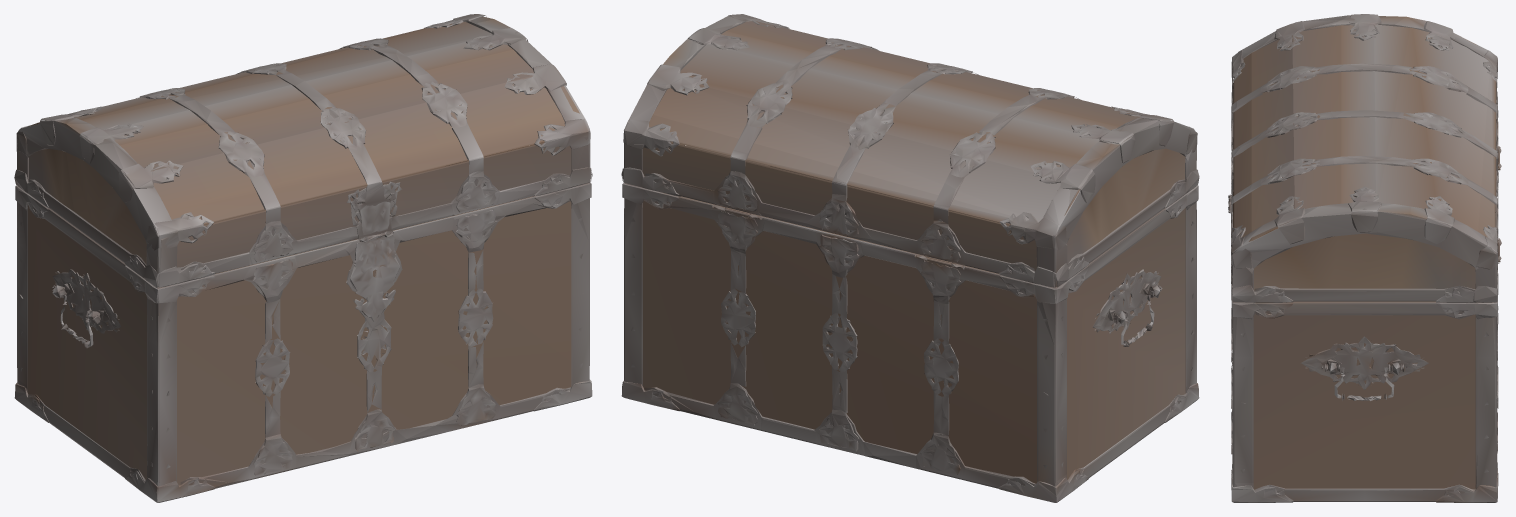
Rendered from treasure_chest.glb.
3 views of the same model, side by side, from view 1: azimuth 30°, elevation 25°; view 2: azimuth 150°, elevation 25°; view 3: azimuth 270°, elevation 25° (orthographic). The views are drawn at different scales.
Parts seen in each view (by area): view 1: geometry_0; view 2: geometry_0; view 3: geometry_0.
Boxes of the visible parts, x1,y1,x2,y2 form: geometry_0: [14, 14, 592, 502]; geometry_0: [621, 14, 1199, 502]; geometry_0: [1228, 14, 1501, 502].
Size of the model in its own units: 0.9604 by 0.6197 by 0.5246.
